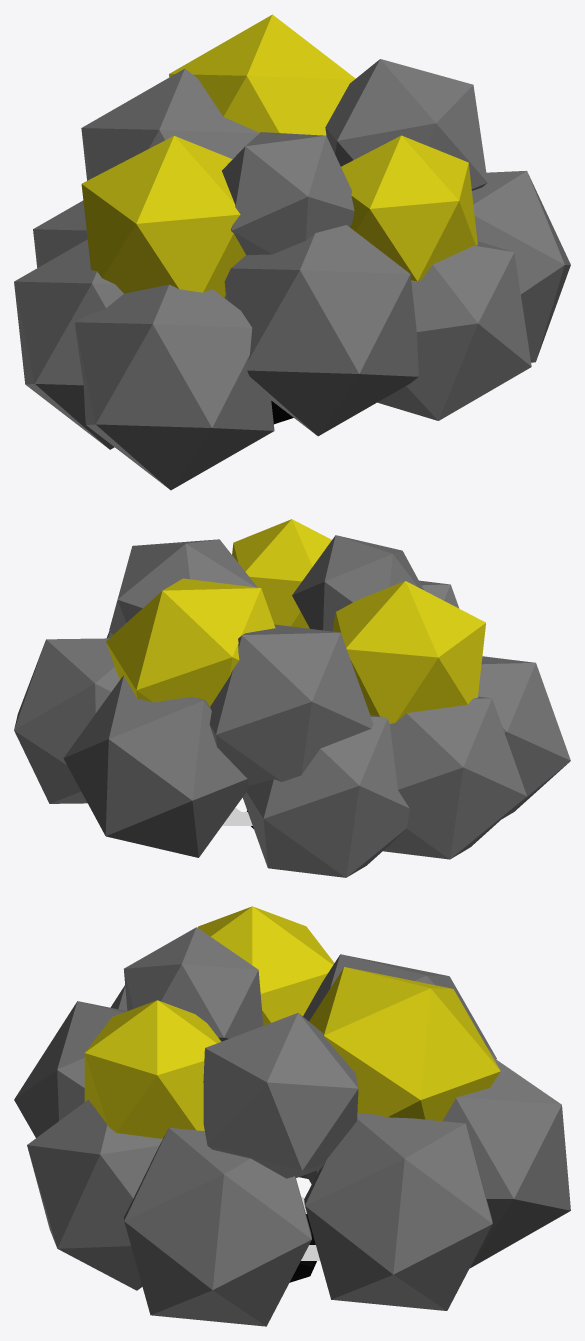
The model's file is bomb.fbx.
The picture shows the model from 3 angles, top to bottom: view 1: azimuth 30°, elevation 25°; view 2: azimuth 150°, elevation 25°; view 3: azimuth 270°, elevation 25°; orthographic projection. The views are drawn at different scales.
Parts seen in each view (by area): view 1: Icosphere.015, Icosphere.014, Icosphere.010, Icosphere.020, Icosphere.011, Icosphere.012, Icosphere.019, Icosphere.021, Icosphere.016, Icosphere.013, Icosphere.023, Icosphere.017; view 2: Icosphere.018, Icosphere.013, Icosphere.017, Icosphere.016, Icosphere.010, Icosphere.012, Icosphere.022, Icosphere.015, Icosphere.019, Icosphere.021, Icosphere.011, Icosphere.014; view 3: Icosphere.022, Icosphere.023, Icosphere.021, Icosphere.012, Icosphere.020, Icosphere.018, Icosphere.011, Icosphere.019, Icosphere.010, Icosphere.014, Icosphere.013.
Part boxes in pixels (left/top/right/bottom): Icosphere.015: left=75, top=284, right=274, bottom=490; Icosphere.014: left=224, top=225, right=418, bottom=436; Icosphere.010: left=81, top=135, right=245, bottom=298; Icosphere.020: left=377, top=241, right=531, bottom=420; Icosphere.011: left=341, top=135, right=477, bottom=281; Icosphere.012: left=169, top=14, right=355, bottom=135; Icosphere.019: left=222, top=132, right=354, bottom=255; Icosphere.021: left=325, top=59, right=487, bottom=190; Icosphere.016: left=14, top=239, right=123, bottom=449; Icosphere.013: left=81, top=68, right=259, bottom=180; Icosphere.023: left=472, top=170, right=570, bottom=362; Icosphere.017: left=33, top=200, right=87, bottom=267; Icosphere.018: left=63, top=675, right=248, bottom=857; Icosphere.013: left=209, top=624, right=373, bottom=785; Icosphere.017: left=242, top=715, right=409, bottom=877; Icosphere.016: left=383, top=696, right=526, bottom=859; Icosphere.010: left=333, top=581, right=485, bottom=723; Icosphere.012: left=106, top=578, right=275, bottom=706; Icosphere.022: left=14, top=638, right=119, bottom=803; Icosphere.015: left=478, top=656, right=570, bottom=818; Icosphere.019: left=292, top=535, right=423, bottom=631; Icosphere.021: left=109, top=539, right=257, bottom=634; Icosphere.011: left=232, top=519, right=331, bottom=628; Icosphere.014: left=419, top=580, right=459, bottom=608; Icosphere.022: left=304, top=1113, right=492, bottom=1310; Icosphere.023: left=123, top=1127, right=311, bottom=1326; Icosphere.021: left=203, top=1013, right=358, bottom=1178; Icosphere.012: left=309, top=967, right=500, bottom=1121; Icosphere.020: left=27, top=1099, right=162, bottom=1290; Icosphere.018: left=443, top=1057, right=570, bottom=1268; Icosphere.011: left=84, top=1000, right=221, bottom=1138; Icosphere.019: left=124, top=927, right=263, bottom=1041; Icosphere.010: left=197, top=906, right=334, bottom=1025; Icosphere.014: left=14, top=1001, right=126, bottom=1137; Icosphere.013: left=303, top=954, right=496, bottom=1059.
Bounding box in the file's own units: 229 × 139 × 217.
